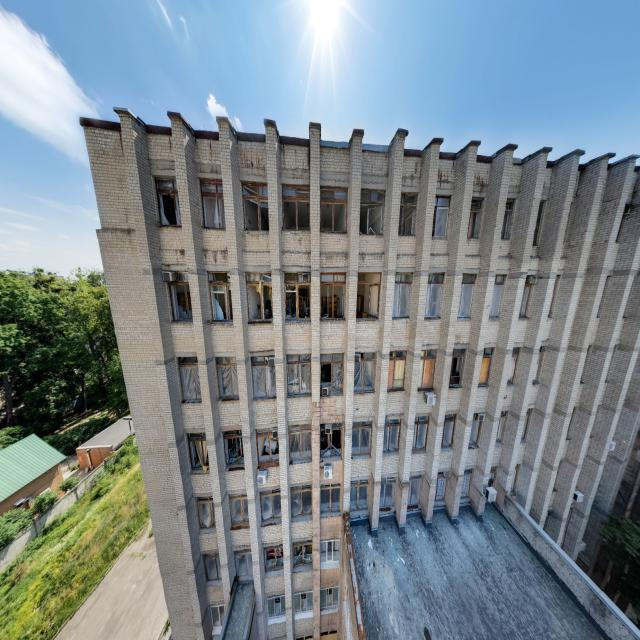broken_window: (154, 175, 181, 228), (241, 180, 268, 233), (281, 184, 310, 232), (199, 178, 225, 230), (320, 186, 347, 234), (359, 188, 385, 236), (176, 356, 202, 403), (250, 355, 276, 400), (215, 356, 239, 401), (286, 354, 311, 397), (392, 271, 413, 319), (424, 271, 444, 319), (222, 430, 245, 470), (354, 352, 376, 393), (457, 272, 476, 319), (398, 192, 418, 236), (417, 348, 437, 391), (432, 194, 450, 239), (351, 421, 372, 458), (467, 195, 484, 240), (388, 350, 406, 391), (383, 418, 400, 454)
building: (79, 107, 639, 638)
